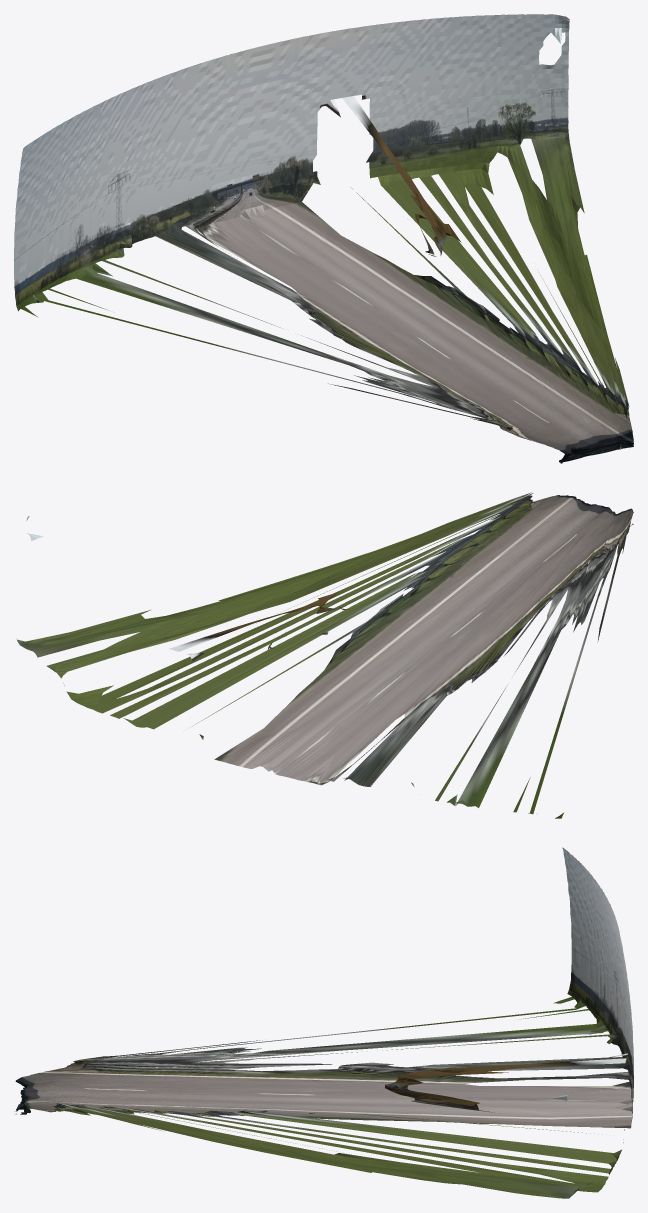
The picture shows the model from 3 angles, top to bottom: view 1: azimuth 30°, elevation 25°; view 2: azimuth 150°, elevation 25°; view 3: azimuth 270°, elevation 25°; orthographic projection. The views are drawn at different scales.
Parts seen in each view (by area): view 1: defaultobject; view 2: defaultobject; view 3: defaultobject.
Boxes of the visible parts, left/top/right/bottom form: defaultobject: left=14, top=14, right=633, bottom=463; defaultobject: left=17, top=492, right=633, bottom=818; defaultobject: left=15, top=847, right=633, bottom=1198.
Bounding box in the file's own units: 41.16 × 12.82 × 44.48.
1 material, 1 textured.
